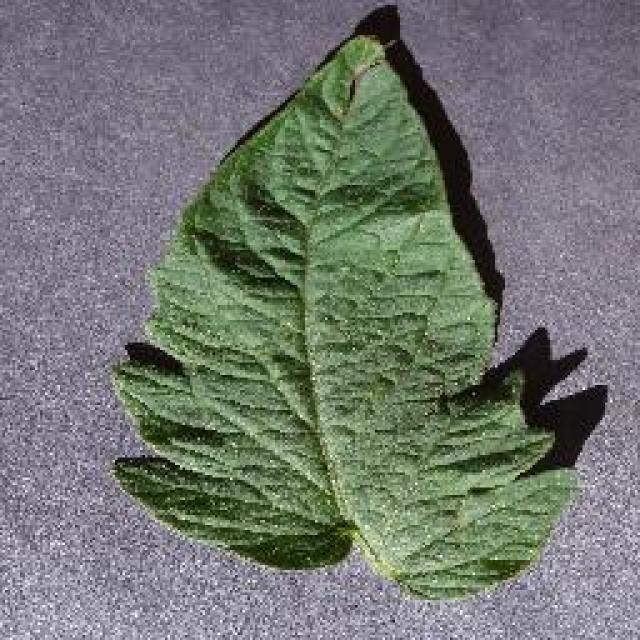Tomato___healthy: (101, 33, 581, 598)
